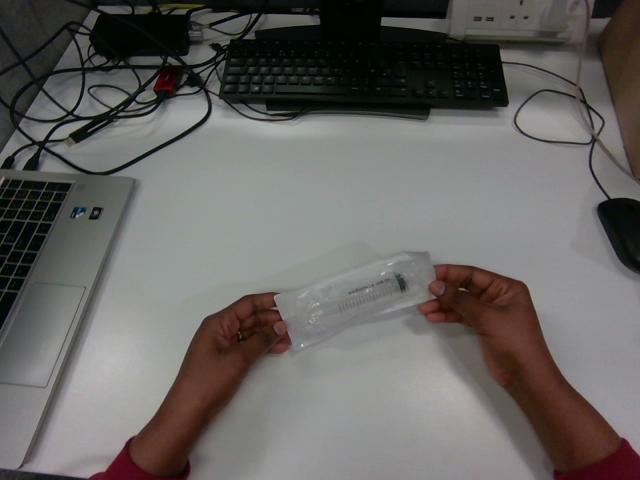syringe: (275, 252, 434, 349)
